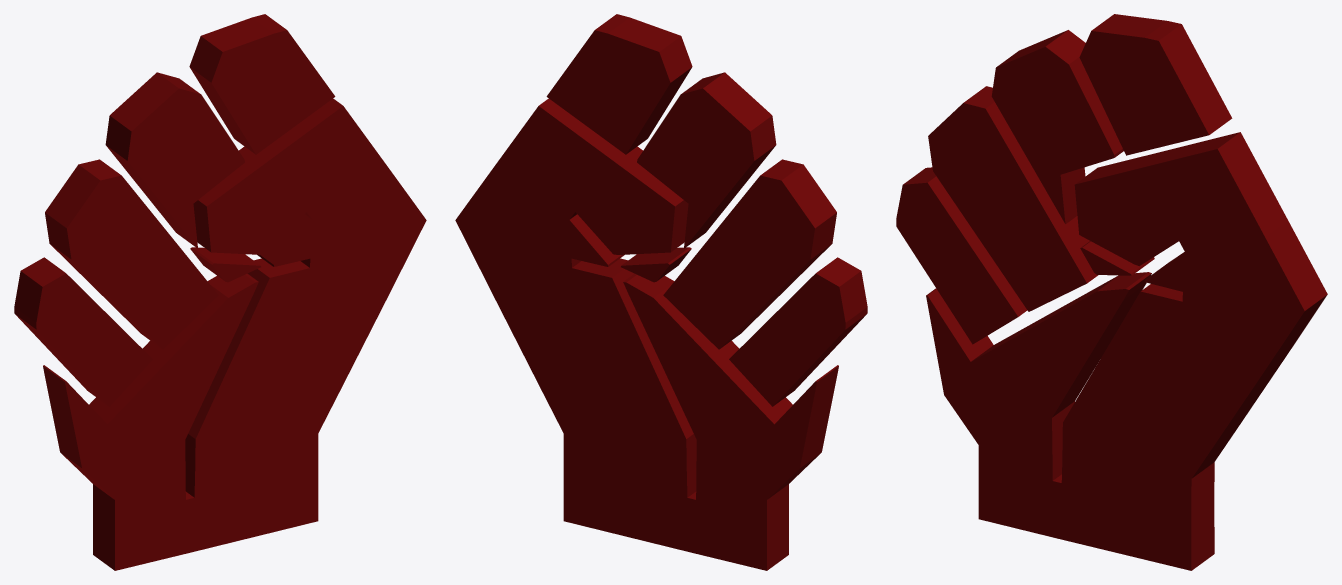
The model's file is fist_left.dae.
3 views of the same model, side by side, from view 1: azimuth 30°, elevation 25°; view 2: azimuth 150°, elevation 25°; view 3: azimuth 330°, elevation 25° (orthographic). The views are drawn at different scales.
Parts seen in each view (by area): view 1: Fist; view 2: Fist; view 3: Fist.
Part boxes in pixels (x1=…): Fist: x1=14, y1=14, x2=426, y2=570; Fist: x1=455, y1=14, x2=867, y2=570; Fist: x1=896, y1=14, x2=1327, y2=570.
Size of the model in its own units: 4.09 by 0.4 by 5.
